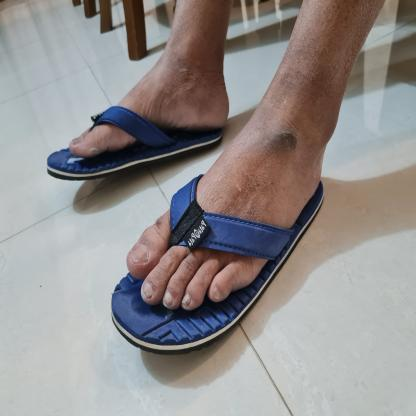leg: (104, 0, 385, 361), (41, 0, 237, 185)
